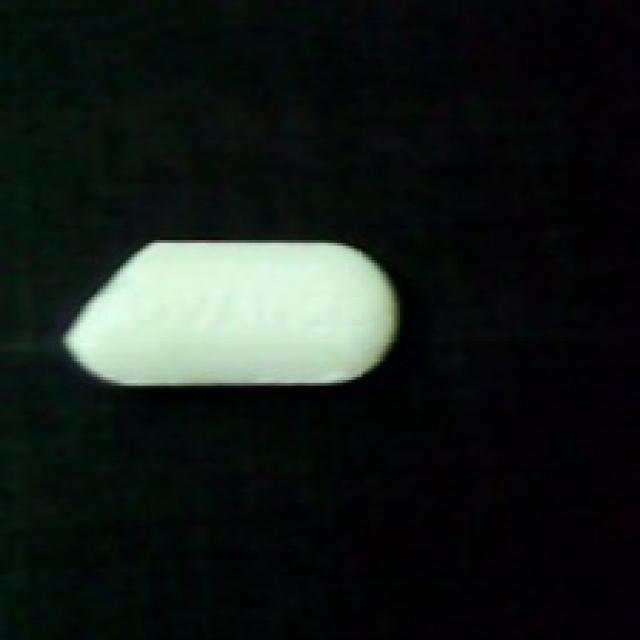defected: (57, 234, 400, 389)
